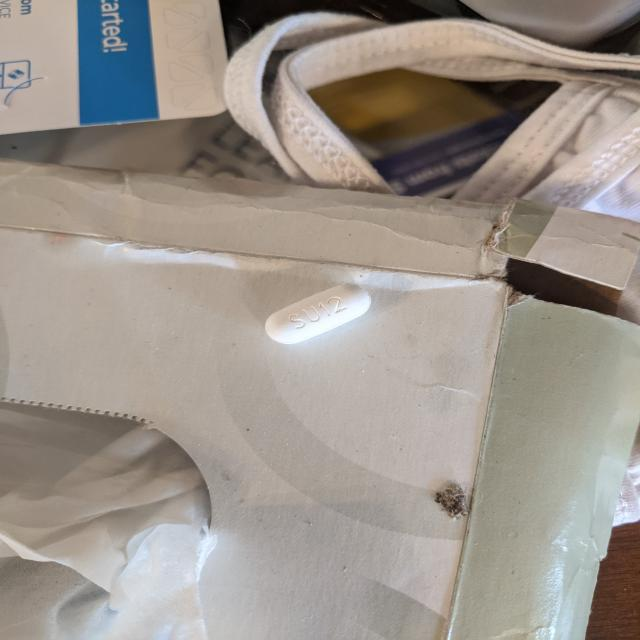non-organic waste: (264, 283, 372, 345)
